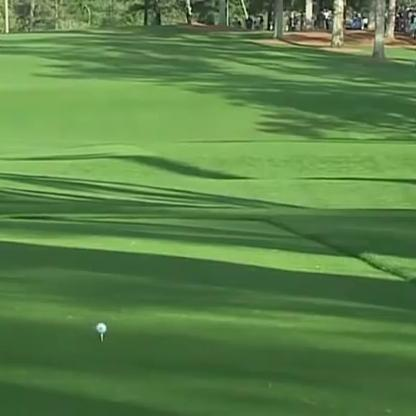golfball: (94, 319, 105, 332)
